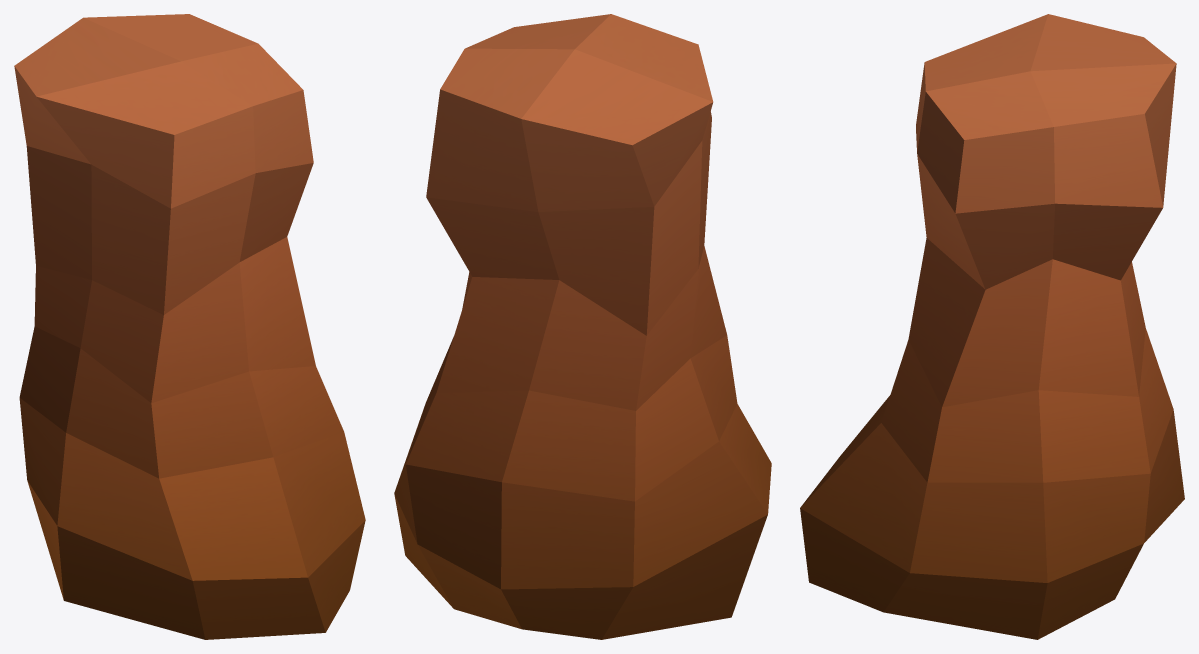
The model's file is rock6.fbx.
The picture shows the model from 3 angles, left to right: view 1: azimuth 30°, elevation 25°; view 2: azimuth 150°, elevation 25°; view 3: azimuth 270°, elevation 25°; orthographic projection. The views are drawn at different scales.
Visible parts, largest first — view 1: Cube.001; view 2: Cube.001; view 3: Cube.001.
Part boxes in pixels (box(x1,y1,x2,y2)): Cube.001: box(14, 14, 365, 639); Cube.001: box(394, 14, 771, 639); Cube.001: box(800, 14, 1184, 639).
Size of the model in its own units: 219 by 339 by 239.
